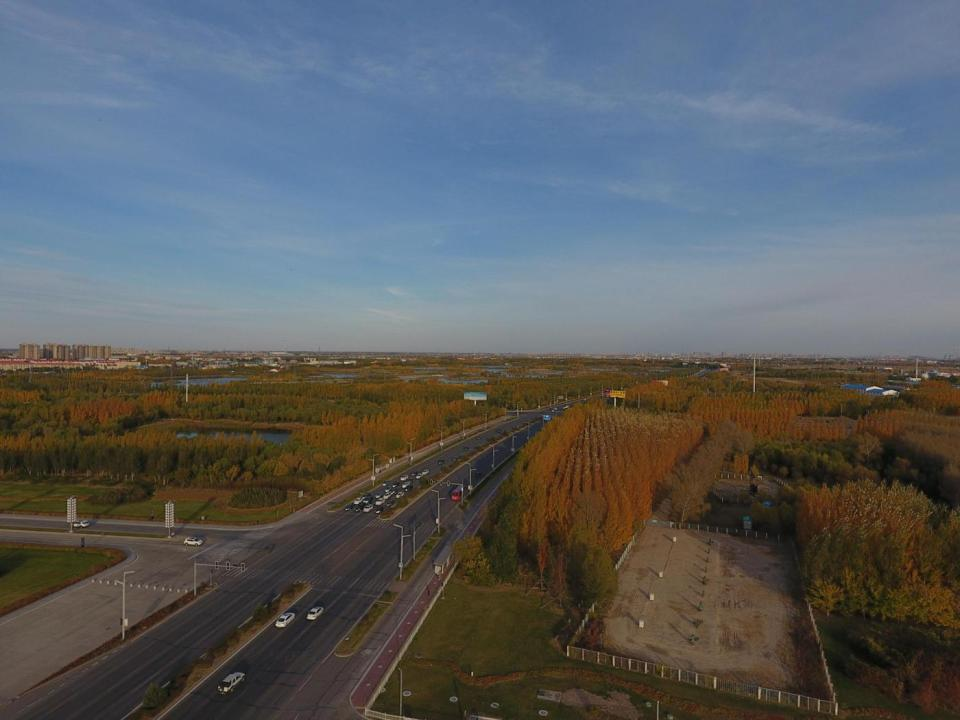bus: (450, 484, 466, 501)
car: (217, 671, 246, 695), (274, 612, 297, 628), (305, 604, 324, 620), (184, 536, 203, 547), (70, 520, 90, 528), (374, 496, 387, 505), (362, 504, 374, 513), (374, 505, 385, 514), (352, 496, 364, 504), (345, 502, 355, 511), (354, 504, 365, 512), (401, 480, 410, 489), (404, 484, 414, 492), (390, 486, 398, 495), (421, 468, 430, 476), (362, 492, 372, 499), (374, 491, 384, 498), (386, 498, 394, 506), (396, 491, 404, 498), (384, 485, 392, 492), (392, 481, 400, 488), (382, 479, 390, 486), (400, 474, 408, 481), (406, 477, 414, 484), (475, 470, 482, 478), (416, 473, 423, 480), (384, 492, 391, 499), (438, 458, 445, 465), (410, 470, 418, 476), (463, 446, 470, 452), (451, 456, 459, 461), (475, 436, 482, 440), (496, 428, 501, 433)
van: (362, 494, 374, 505)
